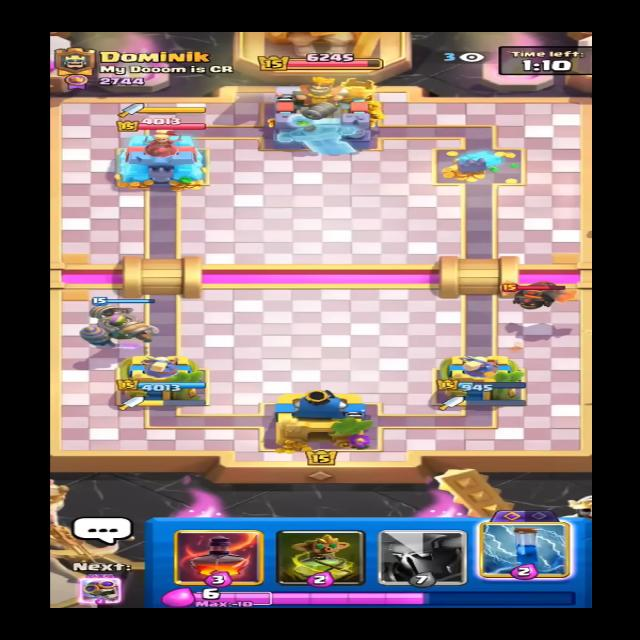lava-hound: (486, 275, 579, 313)
